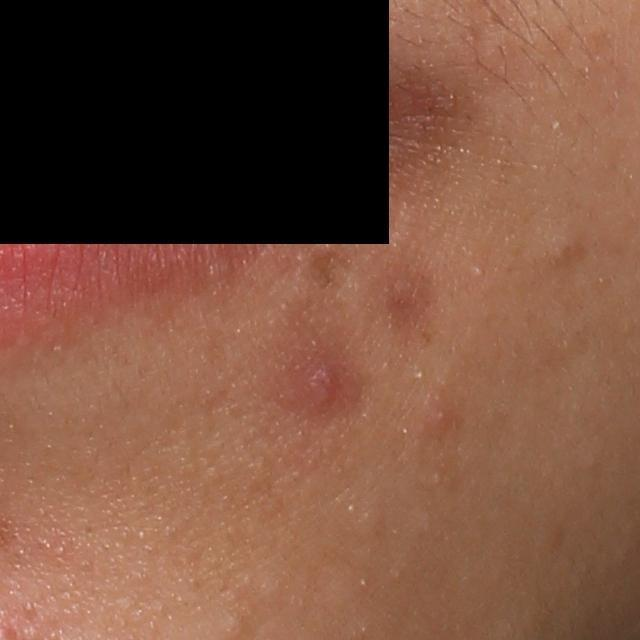comedo: (546, 237, 584, 267), (472, 265, 488, 279)
